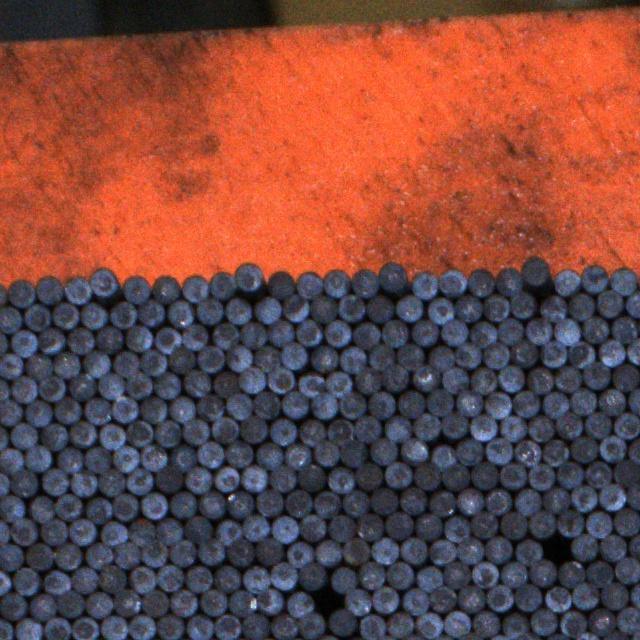tool: (378, 262, 408, 292), (580, 264, 608, 294), (349, 268, 377, 298), (35, 274, 63, 304), (124, 274, 152, 304), (496, 266, 524, 296), (438, 268, 466, 297), (152, 273, 180, 302), (8, 278, 36, 307), (208, 270, 236, 299), (295, 269, 323, 298), (91, 267, 119, 296), (522, 256, 550, 285), (466, 268, 493, 298), (235, 261, 262, 291), (469, 461, 497, 489), (56, 494, 84, 522), (598, 436, 626, 464), (270, 560, 298, 588), (62, 276, 90, 304), (181, 369, 209, 397), (351, 322, 379, 350), (183, 272, 209, 302), (596, 289, 624, 316), (69, 518, 96, 546), (582, 360, 610, 387), (384, 512, 411, 540), (380, 319, 407, 347), (453, 293, 480, 321), (400, 487, 427, 515), (109, 302, 137, 329), (527, 511, 554, 539), (197, 536, 224, 564), (125, 372, 152, 400), (282, 292, 309, 320), (384, 461, 412, 488), (370, 486, 397, 514), (240, 414, 267, 442), (397, 390, 425, 417), (366, 295, 393, 323), (197, 344, 224, 372), (136, 298, 163, 326), (196, 298, 223, 326), (254, 296, 282, 323), (182, 515, 210, 542), (442, 318, 469, 346), (256, 488, 284, 515), (612, 266, 639, 294), (166, 300, 193, 328), (78, 301, 105, 329), (25, 542, 52, 570), (370, 438, 397, 466), (613, 364, 640, 392), (482, 292, 509, 320), (98, 565, 125, 593), (11, 469, 38, 497), (156, 518, 183, 546), (256, 538, 283, 566), (242, 565, 269, 593), (83, 350, 110, 378), (298, 418, 326, 445), (412, 363, 440, 390), (323, 269, 349, 298), (268, 269, 294, 298), (41, 423, 68, 450), (300, 562, 327, 589), (125, 468, 152, 495), (584, 461, 611, 488), (598, 484, 625, 511), (9, 329, 36, 356), (199, 589, 226, 616), (185, 565, 212, 592), (24, 400, 51, 427), (95, 325, 122, 352), (510, 339, 537, 366), (366, 344, 393, 371), (169, 589, 196, 616), (309, 294, 336, 321), (599, 582, 626, 609), (253, 391, 280, 418), (210, 415, 237, 442), (288, 591, 315, 618), (112, 589, 139, 616), (39, 374, 66, 401), (342, 538, 369, 565), (41, 519, 68, 546), (40, 467, 67, 494), (328, 467, 355, 494), (257, 443, 284, 470), (241, 514, 268, 541), (496, 364, 523, 391), (401, 438, 428, 465), (225, 297, 252, 324), (414, 414, 441, 441), (183, 465, 210, 492), (567, 340, 594, 367), (524, 317, 551, 344), (482, 341, 509, 368), (330, 609, 357, 636), (267, 366, 294, 393), (599, 389, 626, 416), (339, 346, 366, 373), (559, 609, 586, 636), (84, 398, 111, 425), (354, 366, 381, 393), (502, 612, 529, 639), (373, 586, 399, 614), (614, 508, 640, 536), (359, 560, 385, 588), (300, 514, 326, 542), (28, 593, 54, 621), (252, 346, 280, 372), (572, 582, 598, 610), (140, 444, 166, 472), (198, 490, 224, 518), (53, 542, 81, 568), (197, 440, 223, 468), (23, 304, 49, 332), (270, 465, 296, 493), (12, 568, 38, 596), (325, 318, 351, 346), (455, 439, 481, 467), (382, 416, 410, 442), (528, 558, 554, 586), (238, 366, 264, 394), (12, 518, 38, 546), (52, 302, 78, 330), (281, 389, 307, 417), (484, 392, 510, 420), (43, 570, 71, 596), (556, 510, 582, 538), (342, 488, 368, 516), (554, 268, 580, 296), (98, 469, 124, 497), (298, 464, 324, 492), (85, 541, 113, 567), (228, 537, 254, 565), (168, 345, 194, 373), (127, 614, 154, 640), (338, 295, 364, 322), (514, 584, 540, 611), (286, 489, 312, 516), (485, 536, 512, 562), (113, 446, 139, 473), (38, 327, 65, 353), (112, 396, 138, 423), (272, 515, 298, 542), (584, 411, 610, 438), (240, 464, 266, 491), (527, 464, 553, 491), (142, 540, 168, 567), (214, 565, 240, 592), (442, 463, 468, 490), (456, 488, 482, 515), (368, 391, 394, 418), (142, 590, 169, 616), (280, 342, 306, 369), (113, 493, 139, 520), (168, 538, 194, 565), (128, 566, 155, 592), (457, 587, 484, 613), (24, 444, 50, 471), (72, 567, 98, 594), (66, 328, 92, 355), (553, 318, 580, 344), (586, 561, 612, 588), (55, 396, 81, 423), (471, 560, 498, 586), (485, 487, 511, 514), (501, 512, 527, 539), (327, 516, 354, 542), (314, 538, 340, 565), (581, 318, 608, 344), (571, 485, 597, 512), (126, 324, 152, 351), (353, 416, 379, 443), (542, 391, 568, 418), (556, 461, 582, 488), (313, 490, 339, 517), (56, 590, 83, 616), (299, 613, 325, 640), (156, 419, 182, 446), (340, 441, 366, 468), (53, 350, 79, 377), (169, 491, 195, 518), (355, 515, 382, 541), (12, 375, 38, 402), (455, 538, 482, 564), (471, 511, 497, 538), (584, 512, 610, 539), (526, 414, 552, 441), (338, 392, 364, 419), (612, 316, 639, 342), (269, 418, 295, 445), (501, 461, 527, 488), (141, 348, 167, 375), (130, 518, 156, 545), (470, 366, 496, 393), (227, 490, 253, 517), (514, 391, 540, 418), (240, 321, 266, 348), (397, 344, 424, 370), (224, 442, 251, 468), (168, 395, 194, 422), (242, 614, 269, 640), (68, 374, 94, 401), (311, 346, 338, 372), (568, 293, 594, 320), (470, 320, 496, 347), (296, 320, 322, 347), (271, 614, 298, 640), (442, 368, 469, 394), (543, 437, 569, 464), (113, 350, 139, 377), (570, 533, 596, 560), (258, 587, 284, 614), (331, 566, 357, 593), (181, 418, 208, 444), (25, 354, 52, 380), (230, 590, 256, 617), (152, 369, 178, 396), (98, 423, 125, 449), (412, 320, 438, 347), (554, 364, 580, 391), (268, 319, 294, 346), (288, 540, 314, 567), (429, 344, 455, 371), (403, 587, 429, 614), (540, 294, 566, 321), (211, 323, 237, 350), (458, 391, 484, 418), (415, 613, 442, 639), (168, 445, 194, 472), (444, 515, 470, 542), (157, 464, 183, 491), (486, 584, 511, 612), (412, 270, 437, 298), (615, 460, 640, 488), (381, 364, 406, 392), (355, 463, 380, 491), (299, 372, 327, 397), (401, 536, 427, 562), (126, 420, 152, 446), (142, 492, 168, 518), (215, 614, 241, 640), (85, 591, 111, 617), (386, 562, 412, 588), (557, 561, 583, 587), (501, 561, 527, 587), (397, 294, 423, 320), (599, 339, 625, 365), (569, 388, 595, 414), (372, 537, 398, 563), (310, 392, 336, 418), (69, 421, 95, 447), (430, 586, 456, 612), (430, 538, 456, 564), (226, 345, 252, 371), (530, 608, 556, 634), (226, 394, 252, 420), (485, 438, 511, 464), (599, 534, 625, 560), (542, 341, 568, 367), (415, 514, 441, 540), (542, 486, 568, 512), (155, 564, 181, 590), (426, 391, 452, 417), (86, 497, 112, 523), (430, 490, 456, 516), (525, 366, 551, 392), (545, 586, 571, 612), (98, 374, 124, 400), (216, 520, 242, 546), (197, 393, 223, 419), (139, 396, 165, 422), (10, 423, 36, 449), (415, 565, 441, 591), (181, 323, 207, 349), (72, 469, 98, 495), (155, 326, 181, 352), (344, 588, 370, 614), (100, 521, 126, 547), (556, 412, 582, 438), (588, 608, 614, 634), (325, 371, 351, 397), (386, 612, 412, 638), (327, 418, 353, 444), (615, 411, 640, 438), (427, 296, 452, 323), (471, 414, 496, 441), (187, 615, 214, 640), (501, 414, 526, 441), (444, 561, 469, 588), (414, 462, 439, 489), (510, 290, 535, 317), (442, 413, 469, 438), (616, 606, 640, 634), (615, 556, 640, 582), (56, 448, 82, 473), (313, 441, 338, 467), (454, 342, 479, 368), (85, 447, 110, 473), (157, 615, 183, 640), (214, 467, 240, 492), (497, 318, 522, 344), (569, 438, 595, 463), (284, 444, 310, 469), (515, 440, 540, 466), (474, 610, 499, 636), (515, 538, 541, 563), (115, 542, 140, 568), (430, 444, 456, 469), (0, 593, 24, 620), (516, 489, 540, 516), (444, 610, 469, 635), (360, 615, 385, 640), (212, 372, 237, 397), (99, 616, 125, 640), (30, 496, 54, 522), (42, 617, 69, 640), (14, 618, 42, 640), (0, 496, 23, 522), (0, 448, 23, 474), (73, 617, 99, 640), (0, 352, 22, 378), (0, 544, 21, 571), (0, 306, 21, 333), (0, 399, 21, 426), (626, 338, 640, 364), (626, 290, 640, 316), (626, 483, 640, 509), (627, 388, 640, 414), (629, 581, 640, 610), (628, 533, 640, 558), (629, 440, 640, 466), (601, 630, 629, 640), (0, 619, 13, 640), (0, 519, 9, 547), (457, 631, 484, 640), (0, 569, 9, 595), (0, 472, 9, 497), (0, 378, 9, 403), (572, 632, 599, 640), (0, 427, 8, 452), (515, 633, 543, 640), (0, 279, 6, 307), (313, 634, 341, 640), (401, 634, 428, 640), (0, 332, 6, 358), (546, 634, 572, 640), (486, 634, 512, 640), (430, 634, 456, 640), (374, 634, 397, 640)
void: (313, 588, 344, 614), (542, 535, 572, 561)
